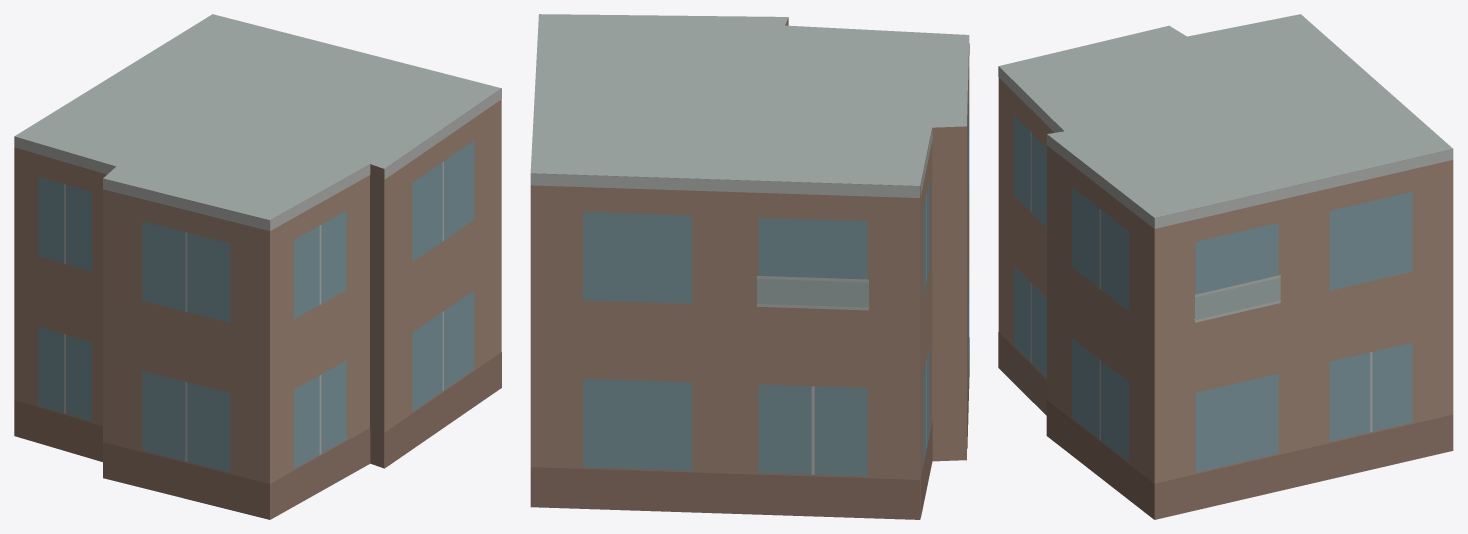
File: survey-upis-32615454.glb
3 views of the same model, side by side, from view 1: azimuth 30°, elevation 25°; view 2: azimuth 150°, elevation 25°; view 3: azimuth 270°, elevation 25° (orthographic). The views are drawn at different scales.
Visible parts, largest first — view 1: survey-upis-32615454.tmp; view 2: survey-upis-32615454.tmp; view 3: survey-upis-32615454.tmp.
Part boxes in pixels (<box>): survey-upis-32615454.tmp: <box>14,14,501,519</box>; survey-upis-32615454.tmp: <box>530,14,969,519</box>; survey-upis-32615454.tmp: <box>998,14,1453,519</box>.
Bounding box in the file's own units: 9.72 × 6.7 × 9.16.
